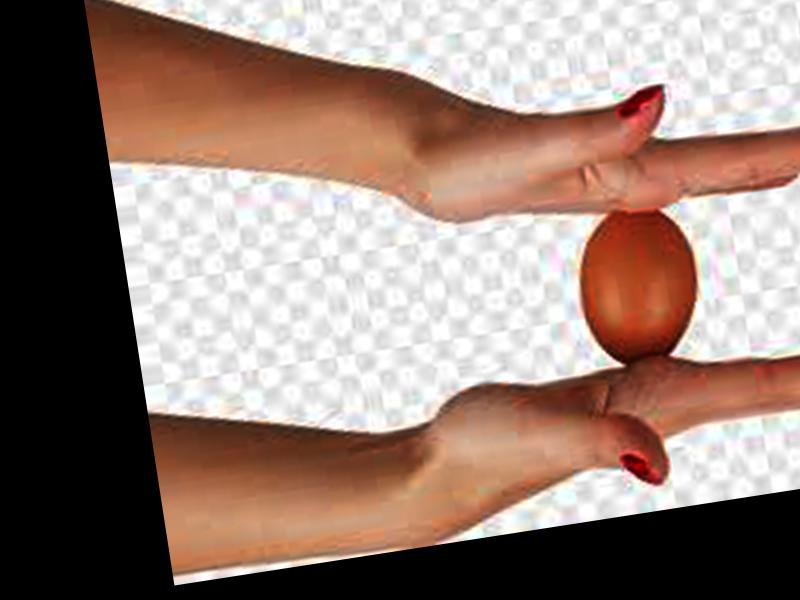Eggs: (569, 201, 704, 367)
